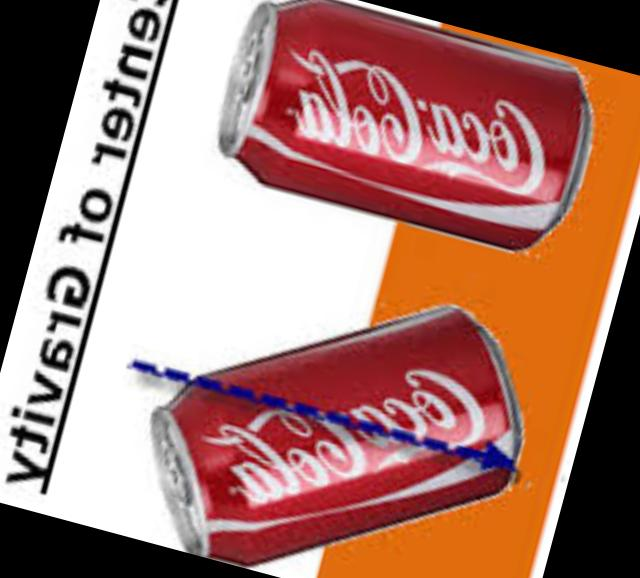metal: (147, 301, 516, 559), (215, 0, 585, 244)
